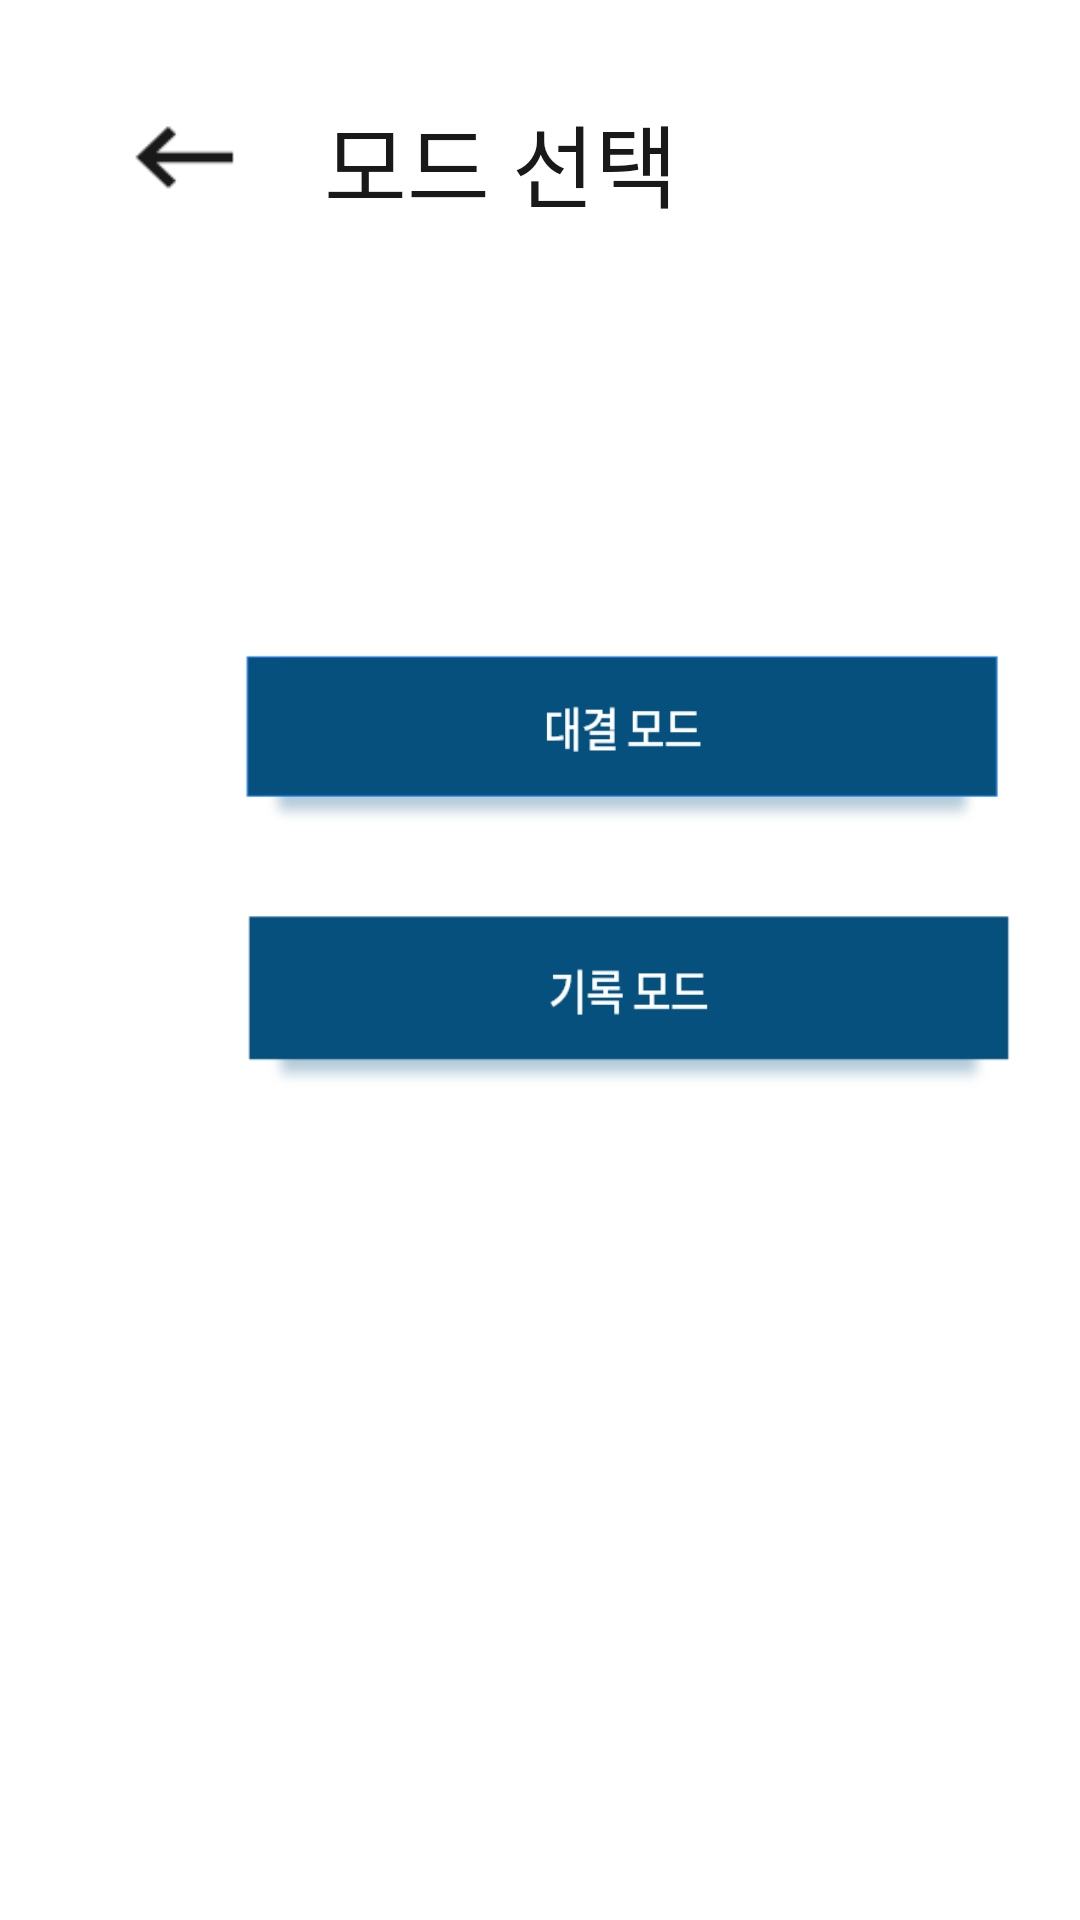

Icons on this 1080 × 1920 Android screen, each with its box as (x1, y1, x2, y2):
pre: (135, 126, 234, 189)
